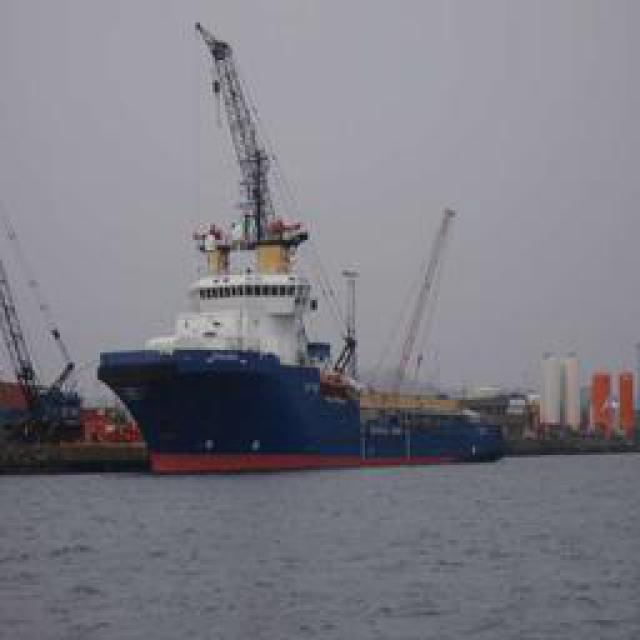Ship: (85, 217, 508, 467)
